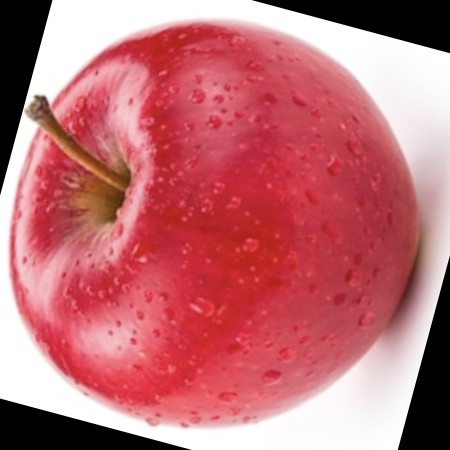fresh_apple: (13, 20, 422, 432)
